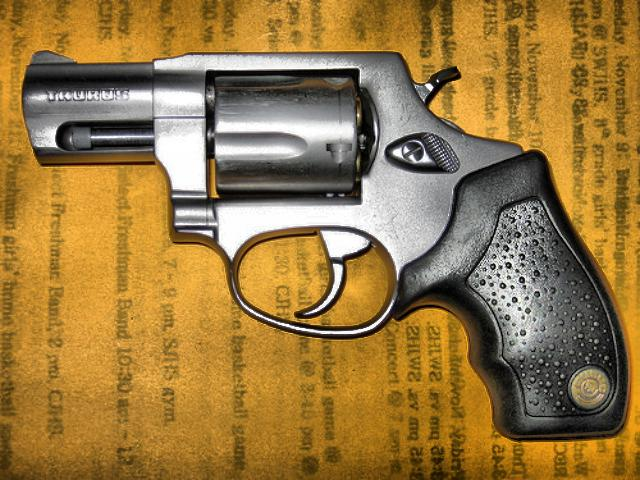pistol: (21, 47, 631, 438)
